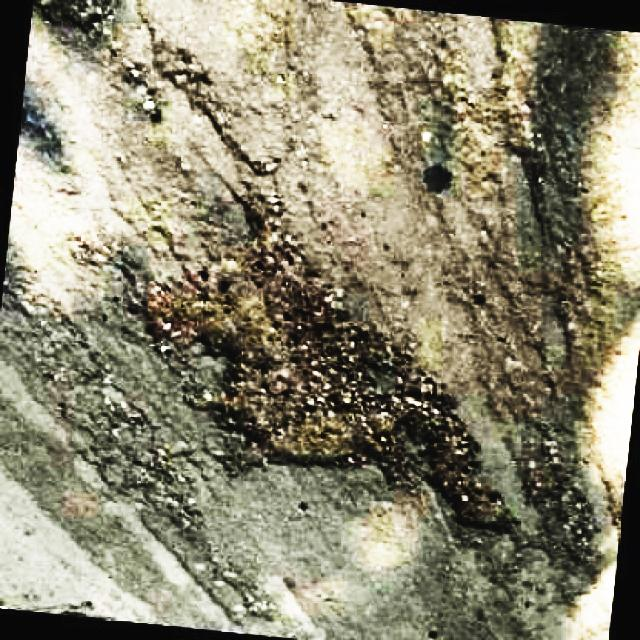pothole: (128, 197, 510, 538)
